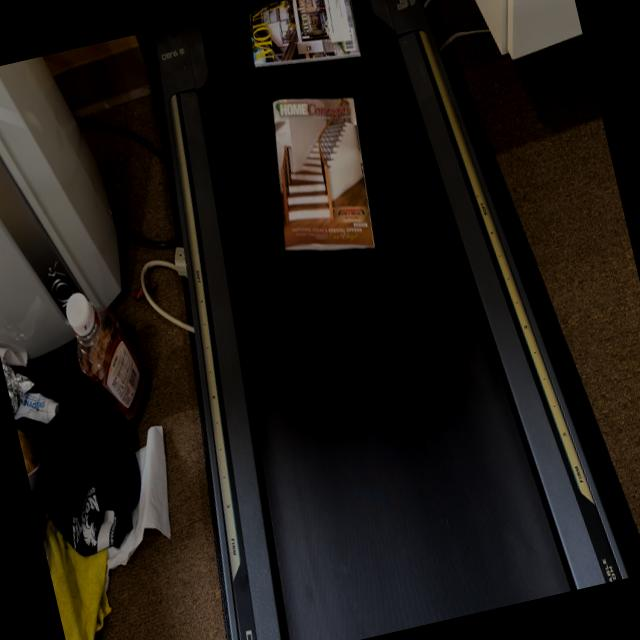Recycle: (264, 65, 401, 293), (237, 0, 380, 84)
